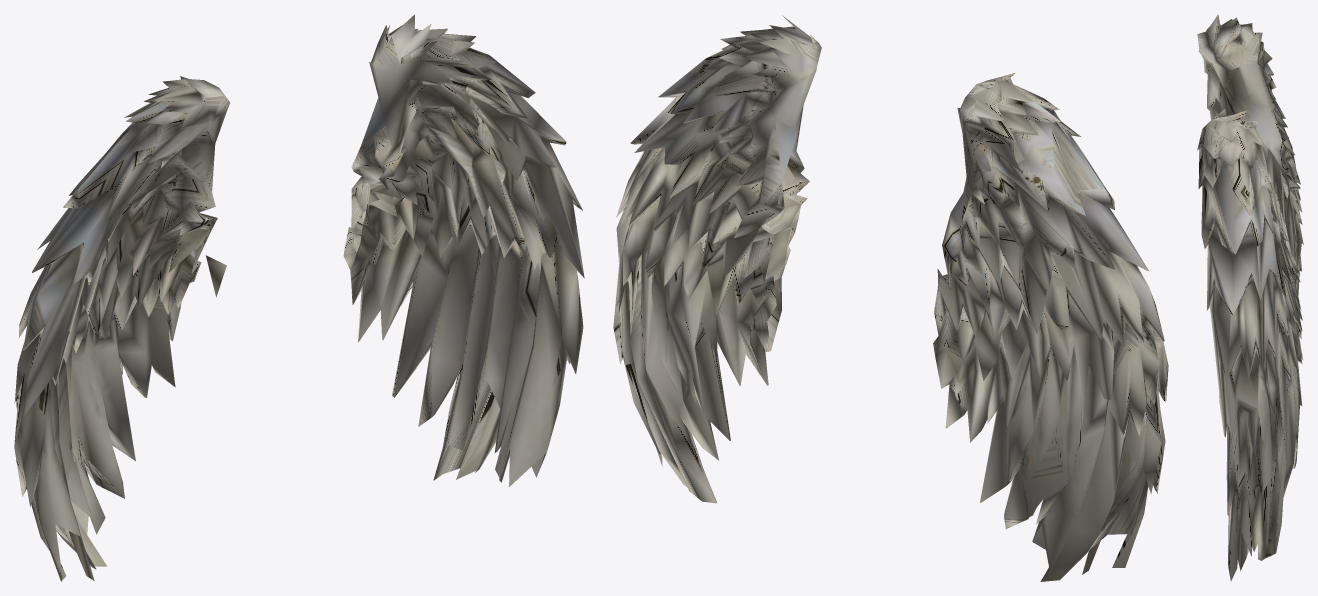
The picture shows the model from 3 angles, left to right: view 1: azimuth 30°, elevation 25°; view 2: azimuth 150°, elevation 25°; view 3: azimuth 270°, elevation 25°; orthographic projection. The views are drawn at different scales.
Parts seen in each view (by area): view 1: material; view 2: material; view 3: material.
Part boxes in pixels (x1,y1,x2,y2): material: (14, 14, 584, 581); material: (613, 15, 1168, 581); material: (1197, 14, 1303, 581).
Size of the model in its own units: 1.06 by 0.8844 by 0.2027.
1 material, 1 textured.
